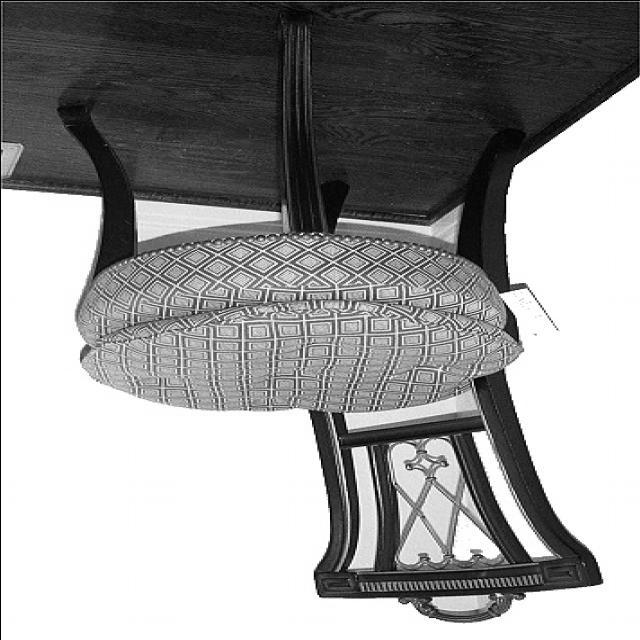chair: (53, 13, 600, 628)
